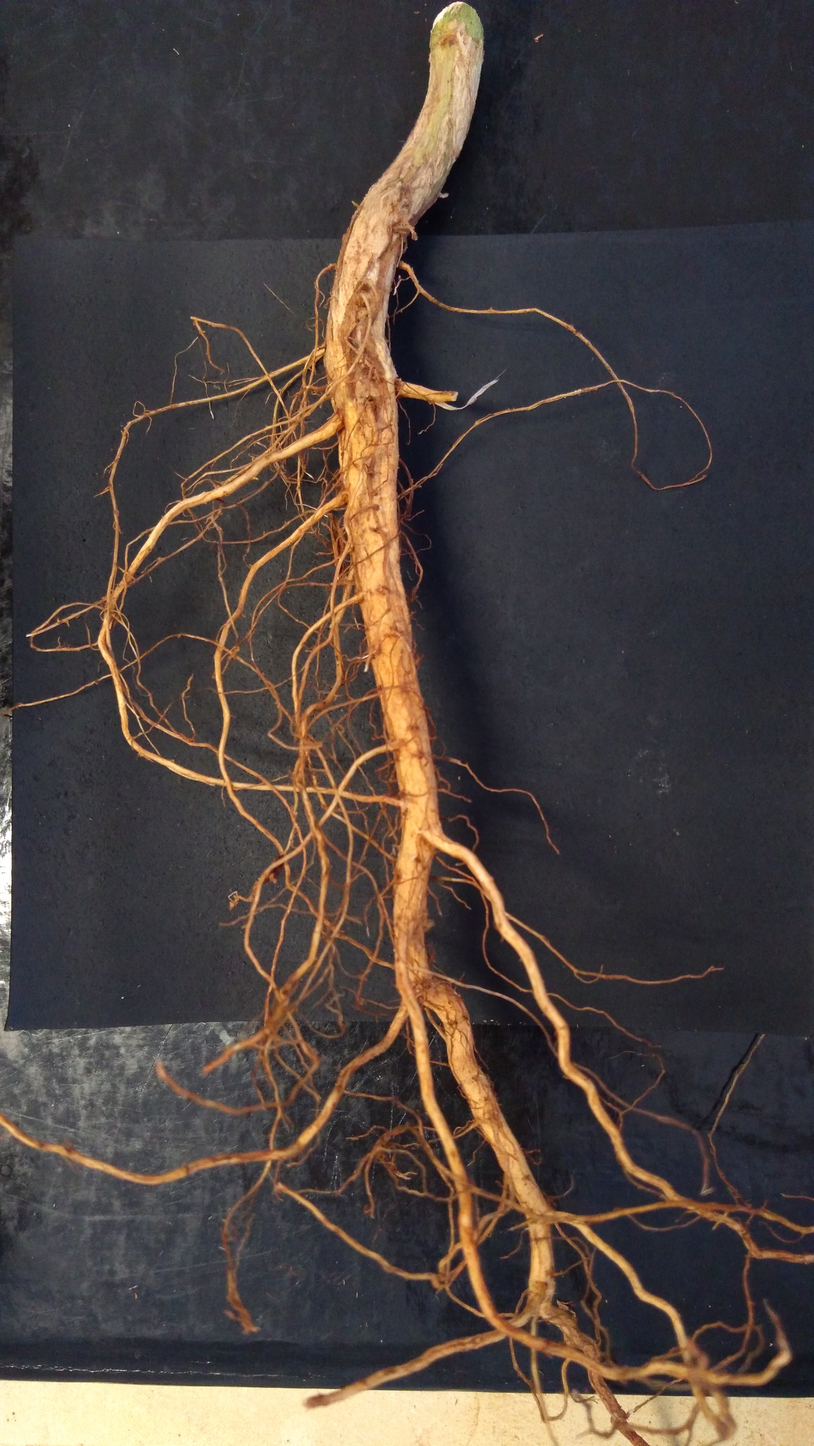nodule: (261, 854, 284, 884), (431, 1271, 453, 1290), (422, 918, 436, 933), (344, 539, 354, 554), (328, 263, 336, 270)
